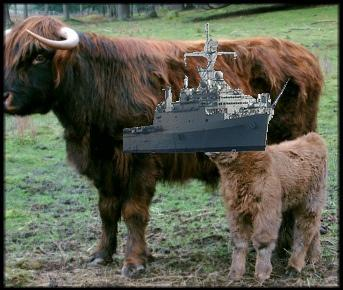tampered: (124, 24, 290, 153)
